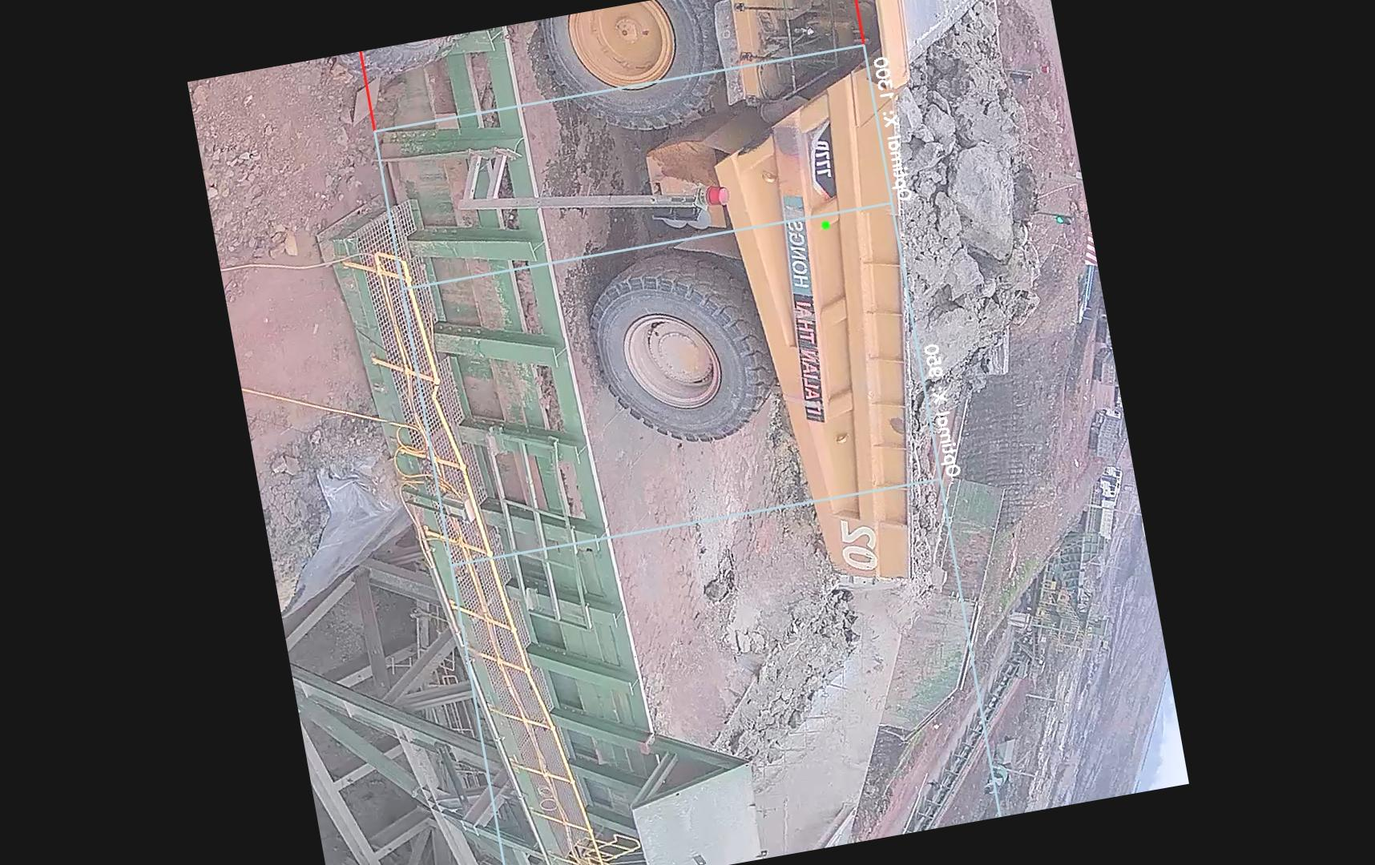company: (762, 173, 846, 440)
full_load: (857, 48, 1073, 364)
mining_truck: (522, 0, 1136, 648)
tail_number: (822, 505, 900, 588)
truck_size: (798, 110, 851, 210)
